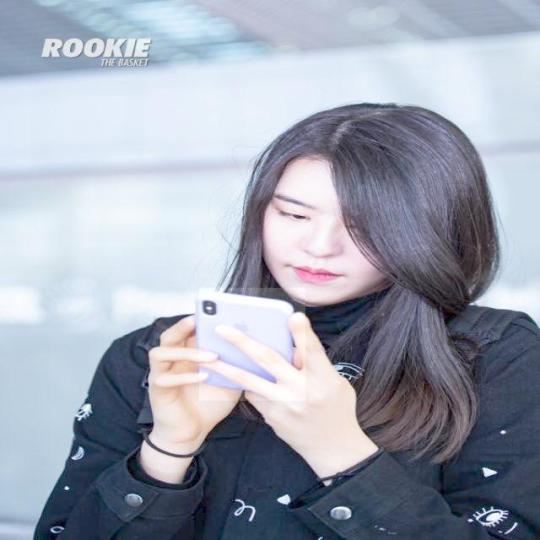phone: (191, 287, 299, 396)
